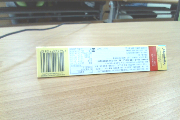Chocolate: (28, 35, 176, 84)
